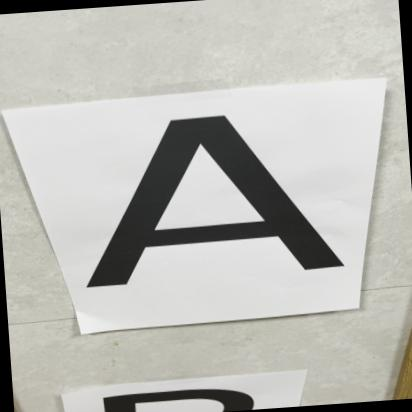seat: (60, 91, 367, 304)
